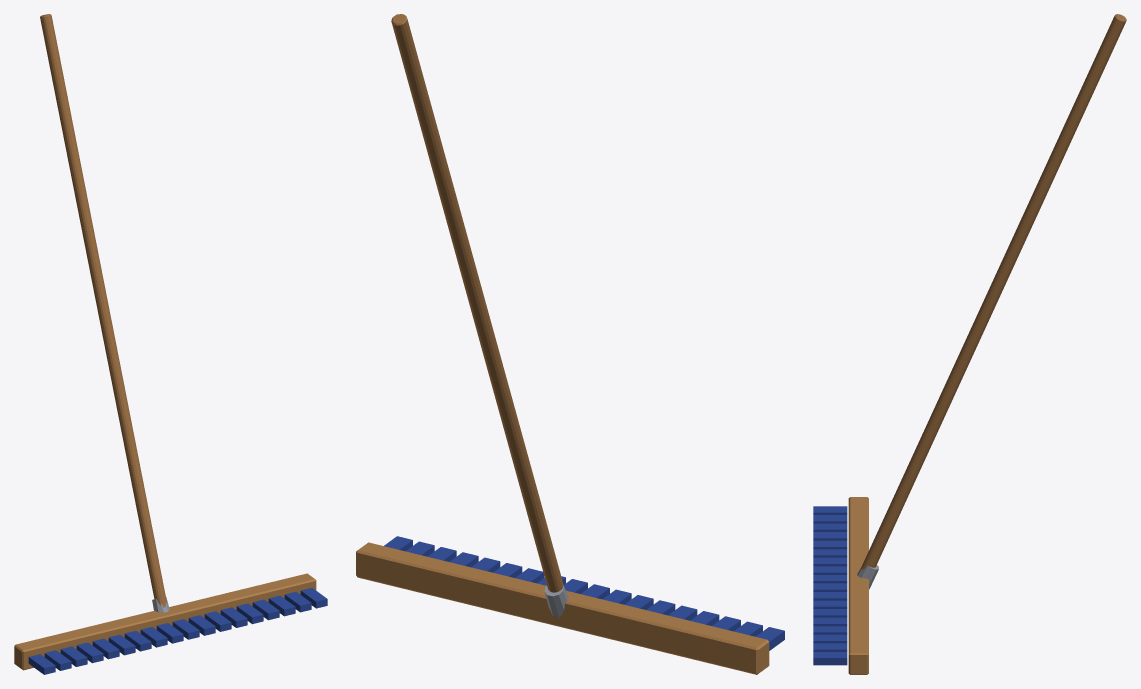
File: Broom.glb
3 views of the same model, side by side, from view 1: azimuth 30°, elevation 25°; view 2: azimuth 150°, elevation 25°; view 3: azimuth 270°, elevation 25° (orthographic). The views are drawn at different scales.
Parts seen in each view (by area): view 1: Head, Body; view 2: Head, Body; view 3: Head, Body.
Boxes of the visible parts, <box> form: Head: <box>14,573,327,674</box>; Body: <box>40,14,169,612</box>; Head: <box>356,536,784,674</box>; Body: <box>391,14,568,617</box>; Head: <box>813,497,868,674</box>; Body: <box>857,14,1126,589</box>.
Size of the model in its own units: 0.92 by 1.59 by 0.7735.
